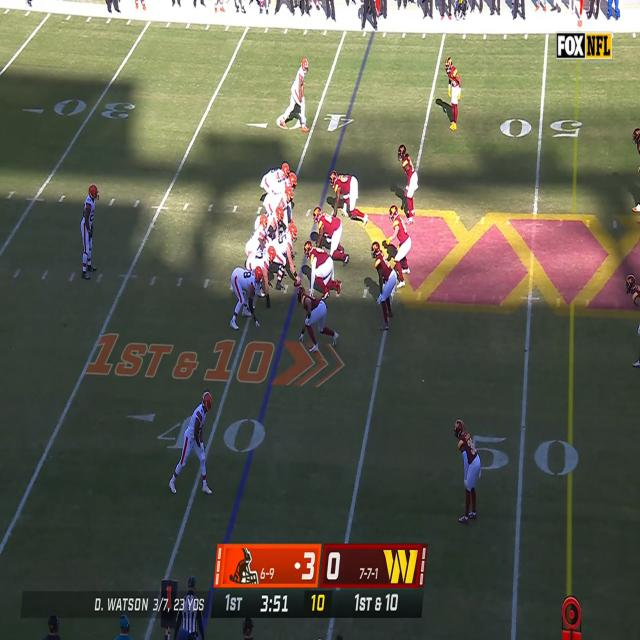football: (294, 278, 301, 287)
players: (170, 390, 214, 496), (297, 286, 339, 352), (454, 418, 480, 522), (385, 205, 417, 288), (229, 266, 264, 333), (313, 207, 352, 267), (371, 241, 396, 332), (266, 224, 298, 292), (281, 57, 309, 133), (243, 245, 276, 309), (304, 242, 342, 296), (330, 171, 368, 225), (80, 185, 100, 280), (398, 146, 418, 222), (625, 272, 640, 368), (444, 58, 460, 132), (243, 215, 268, 260), (255, 204, 286, 240), (264, 186, 296, 218), (261, 164, 292, 196), (266, 173, 300, 200), (632, 126, 640, 214)
